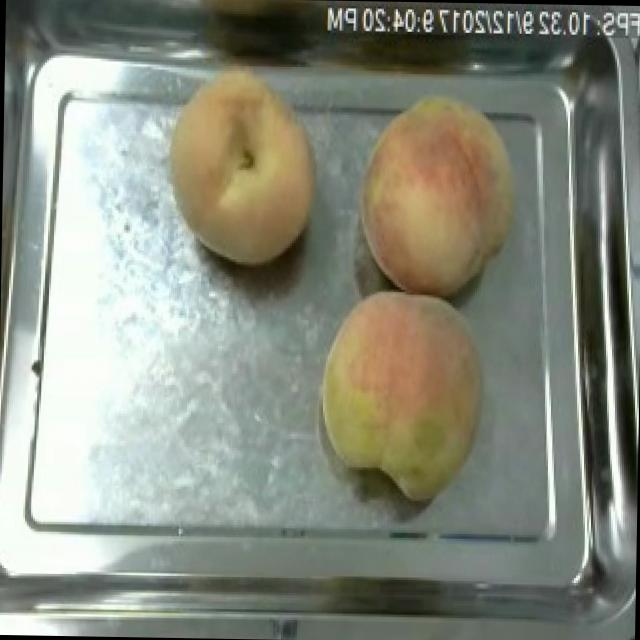Fruit: (310, 280, 492, 507), (344, 82, 528, 302), (157, 54, 330, 273)
